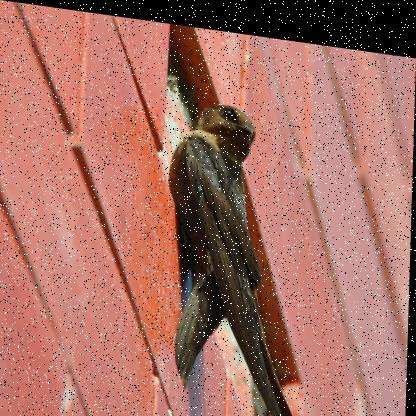Burung: (163, 91, 308, 415)
